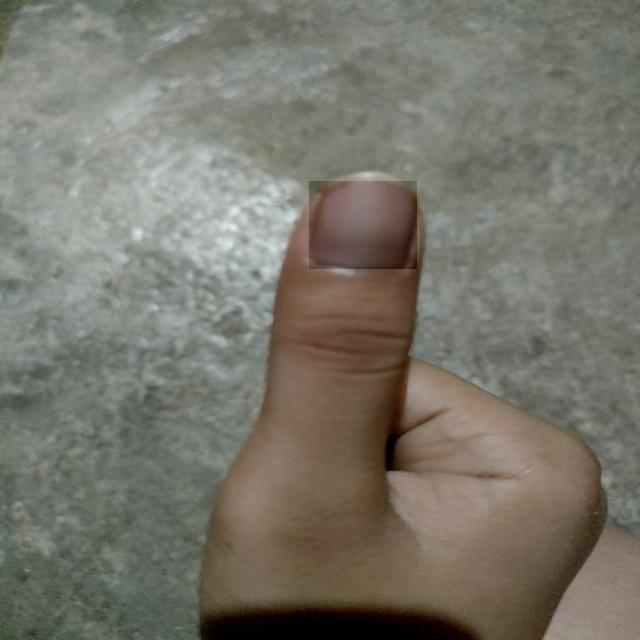sehat: (310, 181, 417, 269)
